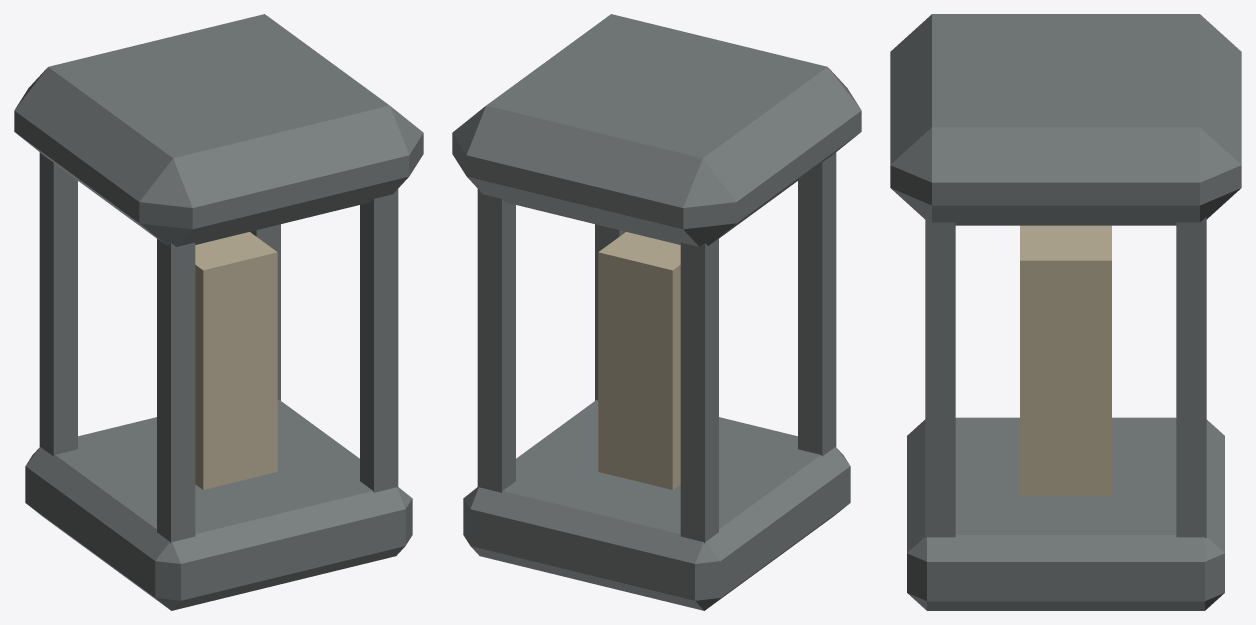
File: lantern.glb
3 renders of one model, left to right at view 1: azimuth 30°, elevation 25°; view 2: azimuth 150°, elevation 25°; view 3: azimuth 270°, elevation 25°, orthographic. The views are drawn at different scales.
Parts seen in each view (by area): view 1: lantern; view 2: lantern; view 3: lantern.
Part boxes in pixels (x1,y1,x2,y2): lantern: [14, 14, 423, 610]; lantern: [452, 14, 861, 610]; lantern: [890, 14, 1241, 610].
Size of the model in its own units: 0.21 by 0.3175 by 0.21.
